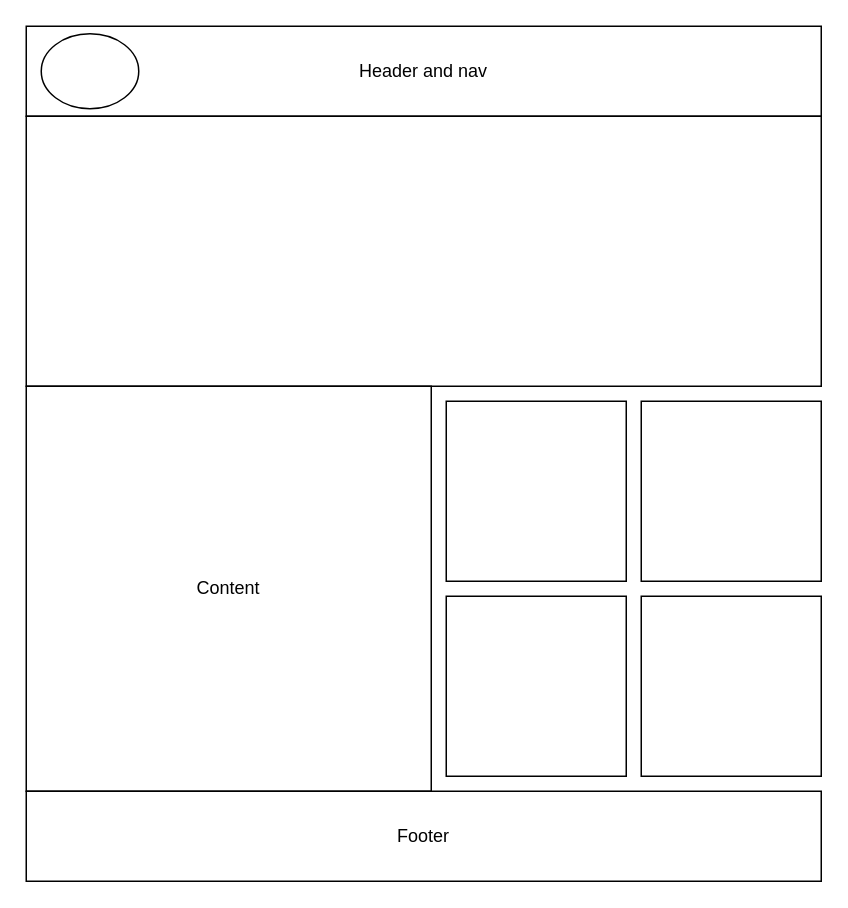
This 848x908 diagram has some shape labels left out. The centre of each missing label's shape, as x and y in pixels:
"Hero" belongs at (x=423, y=250).
"Logo" belongs at (x=89, y=70).
